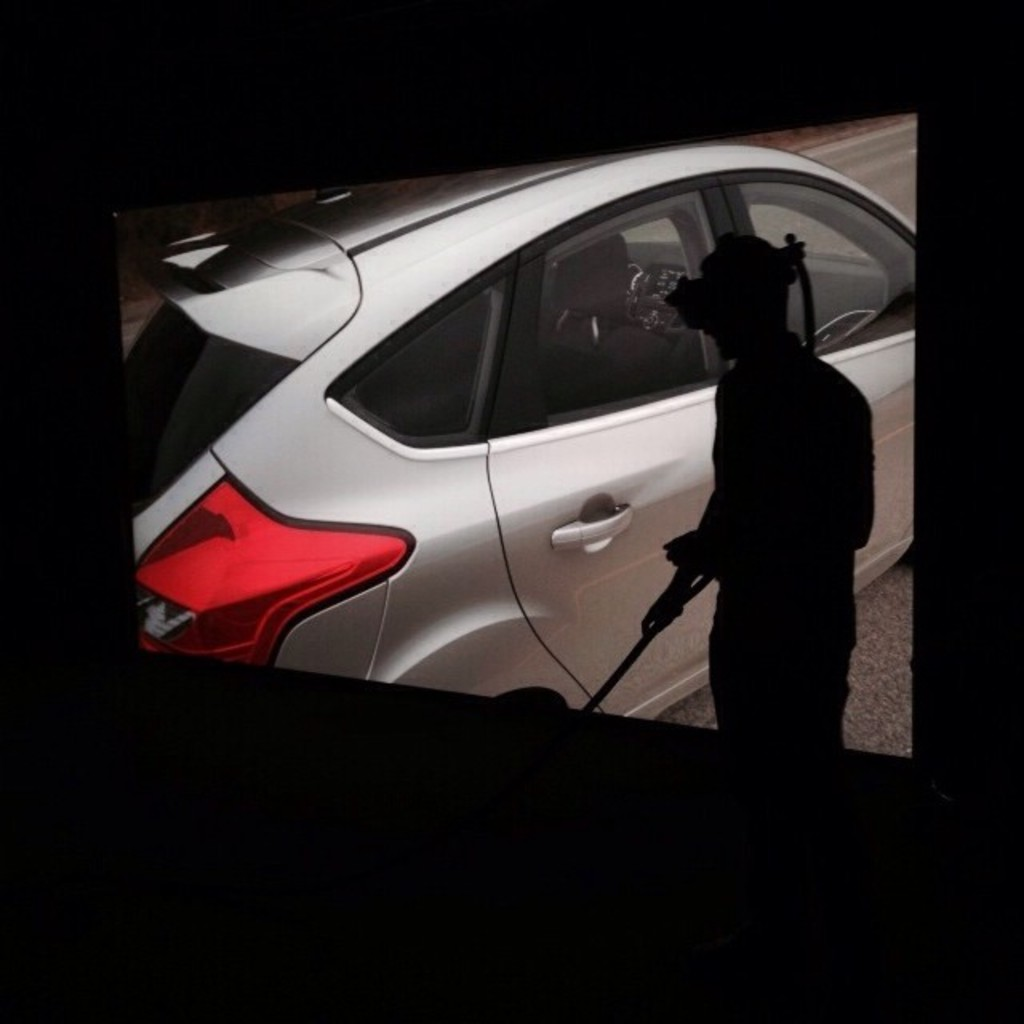Car: (102, 135, 913, 742)
